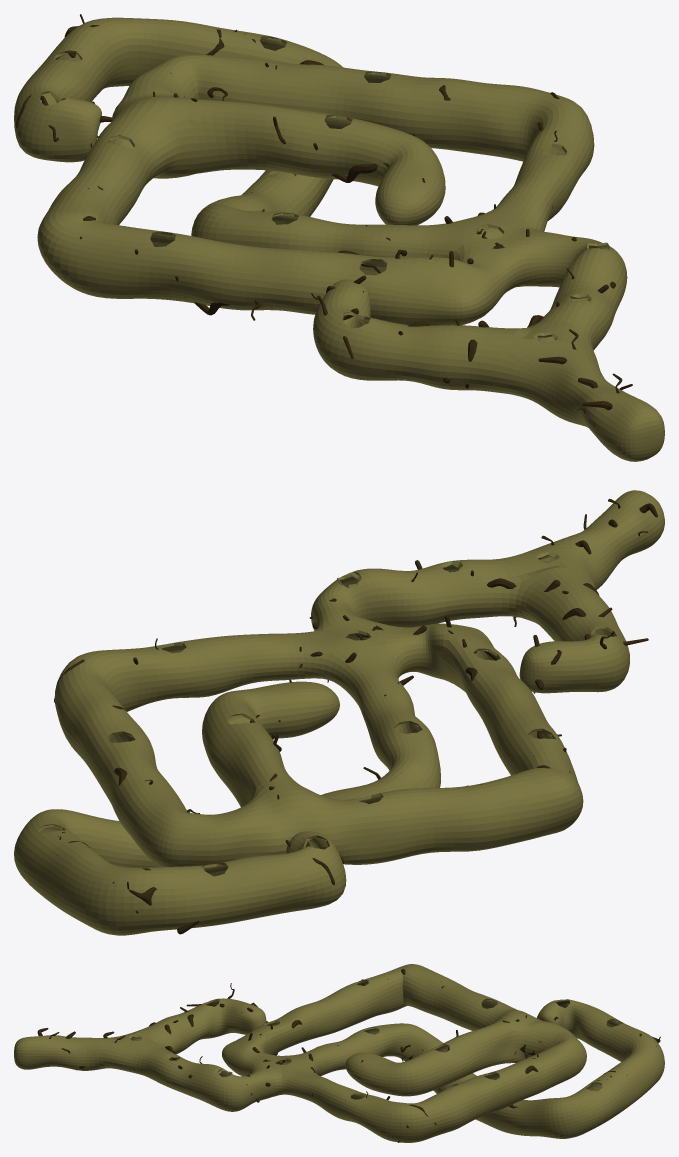
File: MapaFinal.fbx
3 renders of one model, top to bottom at view 1: azimuth 30°, elevation 25°; view 2: azimuth 150°, elevation 25°; view 3: azimuth 270°, elevation 25°, orthographic. The views are drawn at different scales.
Parts seen in each view (by area): view 1: Plane; view 2: Plane; view 3: Plane.
Part boxes in pixels (left/top/right/bottom): Plane: left=14, top=17, right=664, bottom=461; Plane: left=14, top=490, right=664, bottom=935; Plane: left=14, top=964, right=664, bottom=1142.
Bounding box in the file's own units: 3234 × 841 × 5830.
